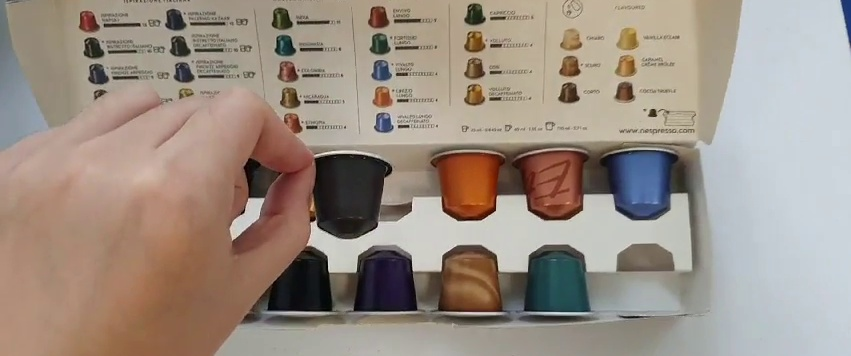capsule_4: (300, 150, 395, 245)
